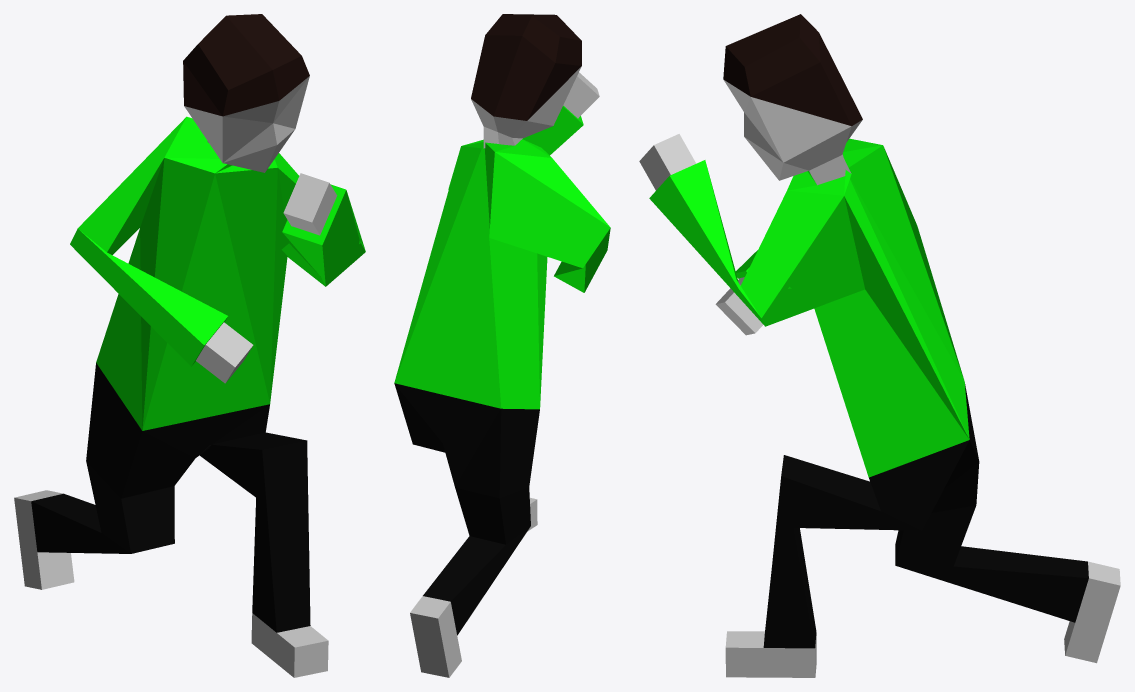
The model's file is gabe.obj.
The picture shows the model from 3 angles, left to right: view 1: azimuth 30°, elevation 25°; view 2: azimuth 150°, elevation 25°; view 3: azimuth 270°, elevation 25°; orthographic projection. The views are drawn at different scales.
Parts seen in each view (by area): view 1: Cube_Cube.001; view 2: Cube_Cube.001; view 3: Cube_Cube.001.
Part boxes in pixels (box(x1,y1,x2,y2)): Cube_Cube.001: box(14, 14, 365, 677); Cube_Cube.001: box(394, 14, 610, 677); Cube_Cube.001: box(639, 14, 1120, 677).
Size of the model in its own units: 1.66 by 4.4 by 2.92.
